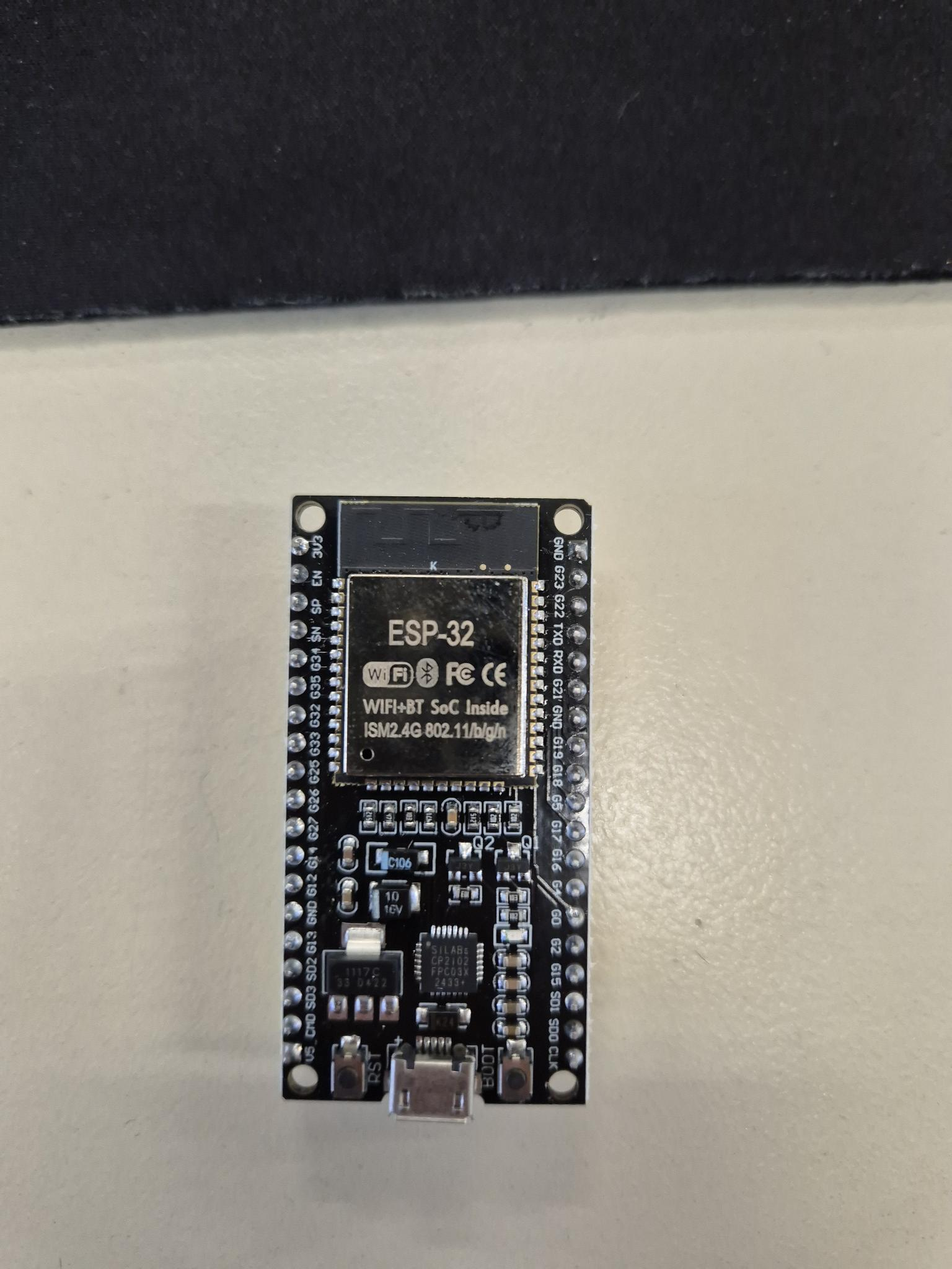esp32-dev: (283, 497, 591, 1120)
